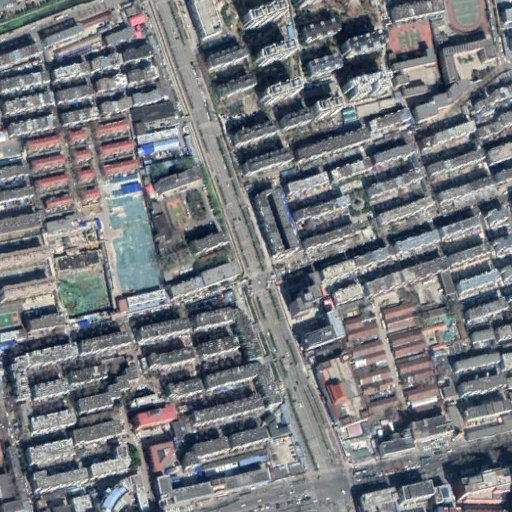cw: (106, 194, 159, 294), (58, 265, 110, 315)
